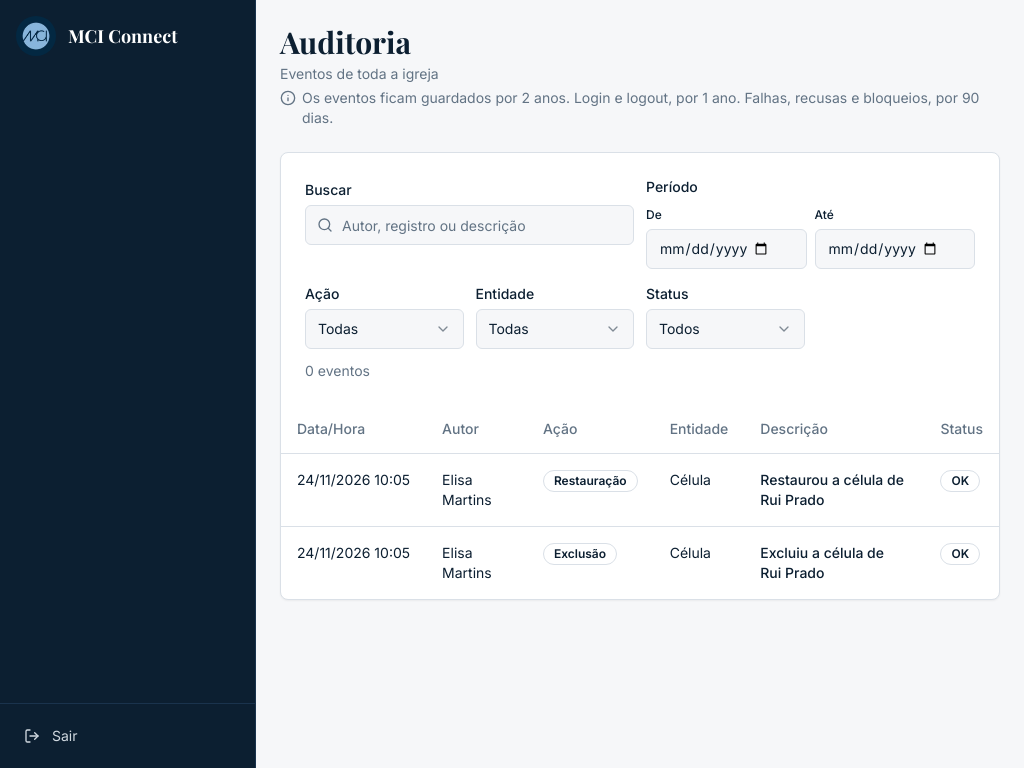
Test case: UX-37 e RN-19: Auditoria da restauração › Dado o filtro de ação, então ele tem a opção 'Restauração', que consulta só as restaurações
Expected: the button "Restaurou a célula de Rui Prado" is shown, [760,470,908,510]
Press Enter in the 1st dropdown labelled "Todas", box [305,309,464,349]
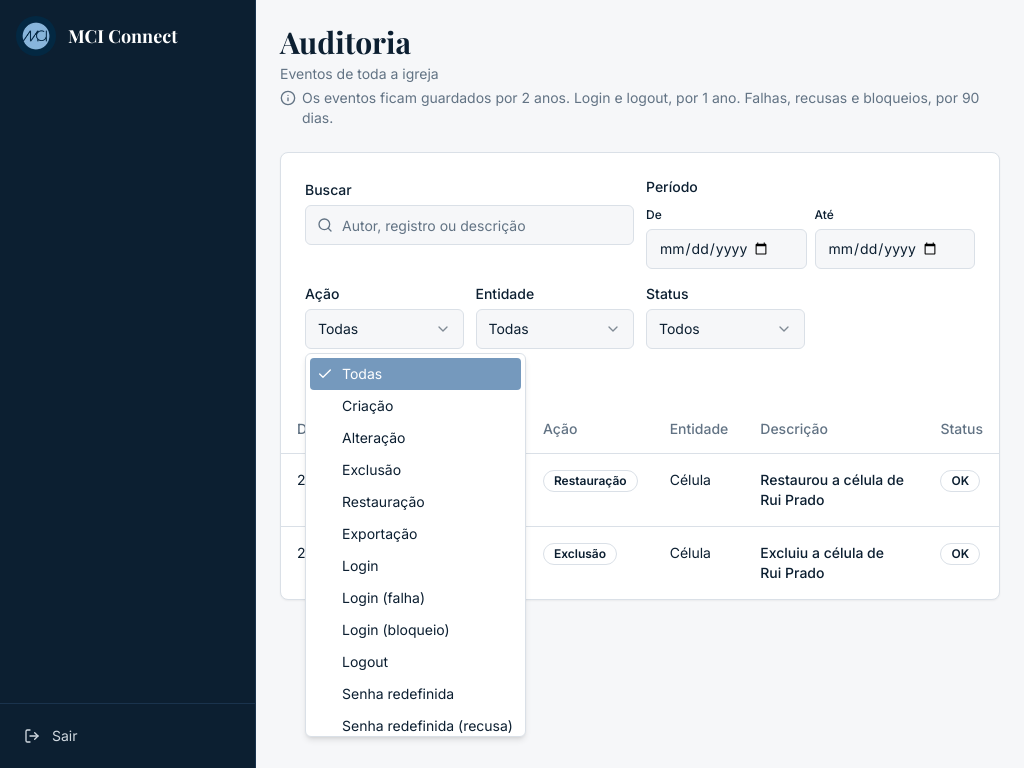
Result: the option "Exclusão" is shown at [342,461,401,478]
Click the option "Restauração" at (383, 502), box [342,493,425,510]
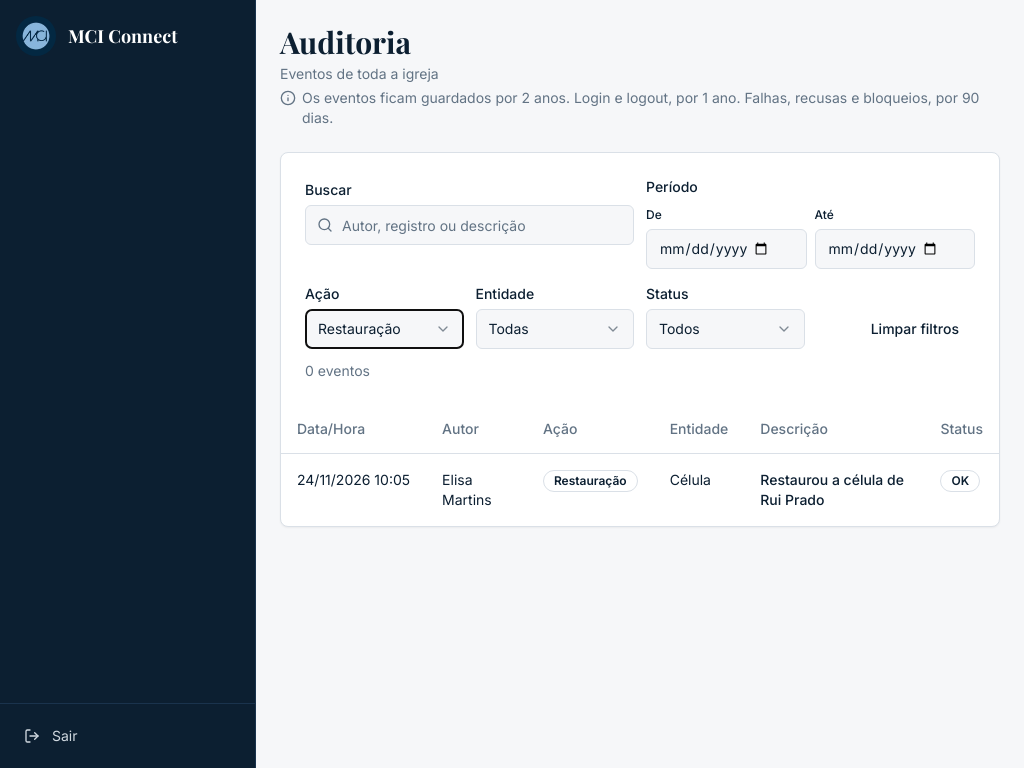
Result: the button "Excluiu a célula de Rui Prado" is gone
Result: the dropdown labelled "Restauração" is shown at [305,309,464,349]
